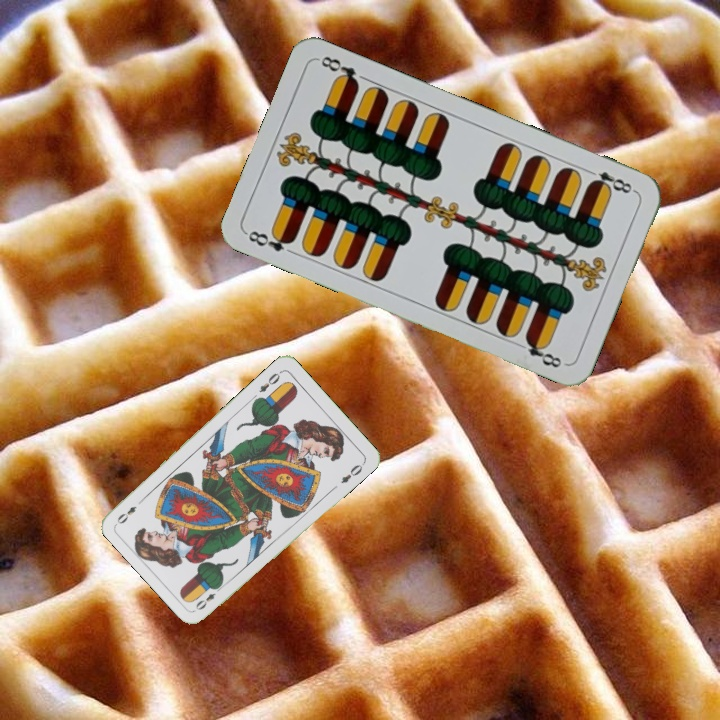E8: (582, 165, 639, 197), (242, 226, 297, 255)
EO: (191, 581, 225, 613), (255, 367, 284, 395)
